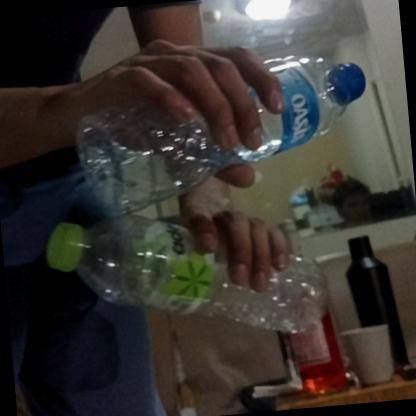plastic_bottles: (71, 55, 380, 222), (41, 192, 335, 362)
